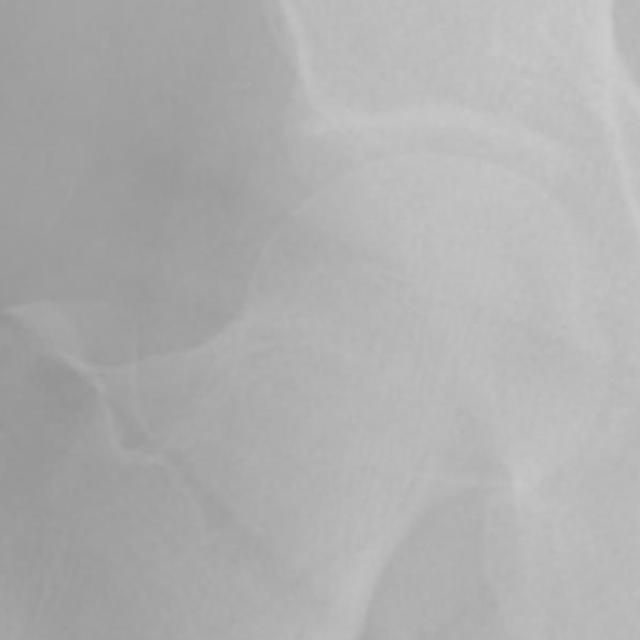Fitted_femural_head: (370, 149, 432, 370)
